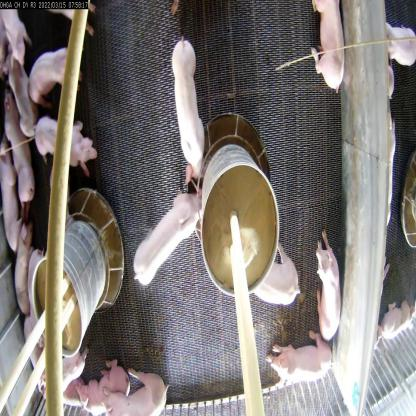Pig: (124, 174, 206, 300), (168, 47, 212, 189), (260, 324, 336, 398), (4, 83, 36, 218), (306, 224, 340, 346), (253, 236, 300, 322), (310, 0, 346, 93), (0, 116, 27, 233), (34, 111, 90, 165), (65, 365, 125, 414), (27, 35, 78, 90), (9, 223, 42, 303), (9, 56, 39, 134), (92, 371, 146, 406)
